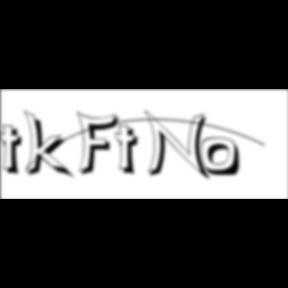F: (77, 110, 125, 178)
N: (144, 109, 214, 183)
k: (23, 108, 76, 181)
o: (201, 137, 243, 179)
t: (115, 124, 146, 179), (1, 124, 30, 179)
